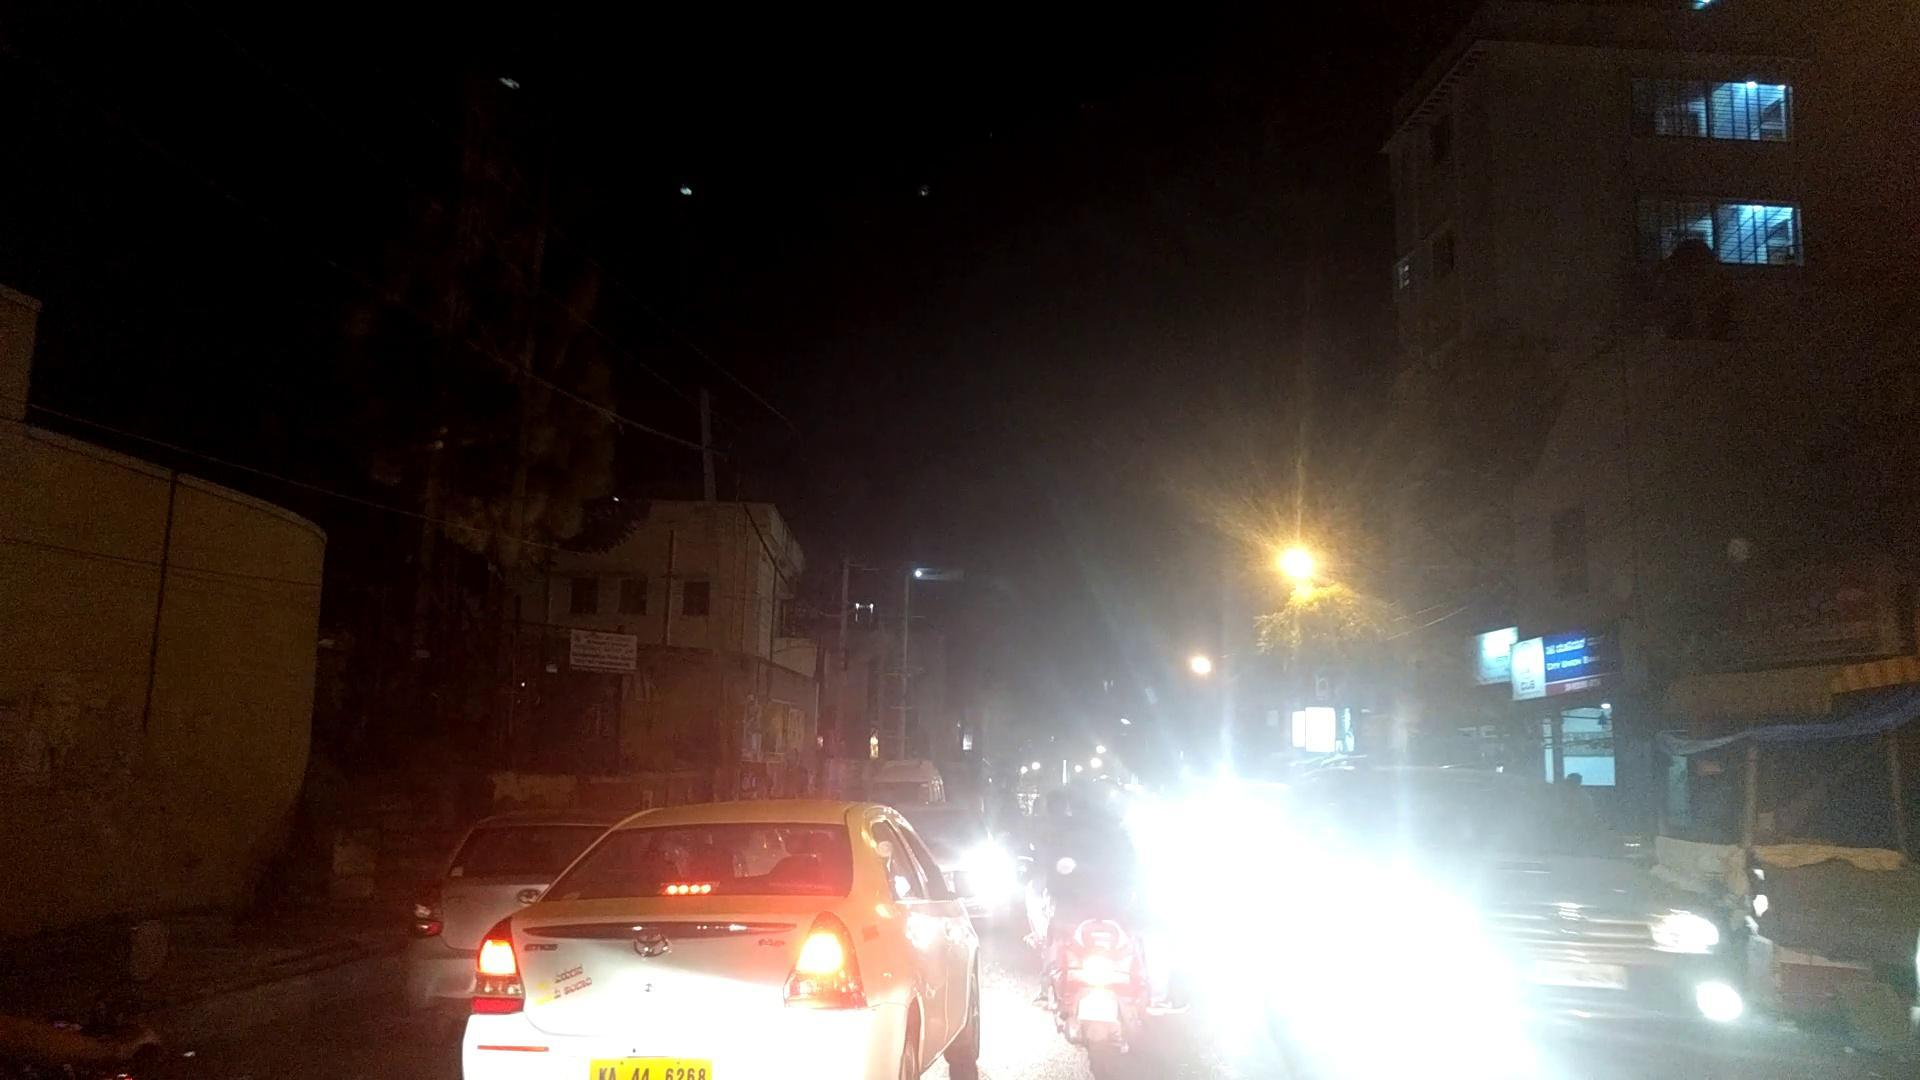on: (1150, 352, 1527, 764)
